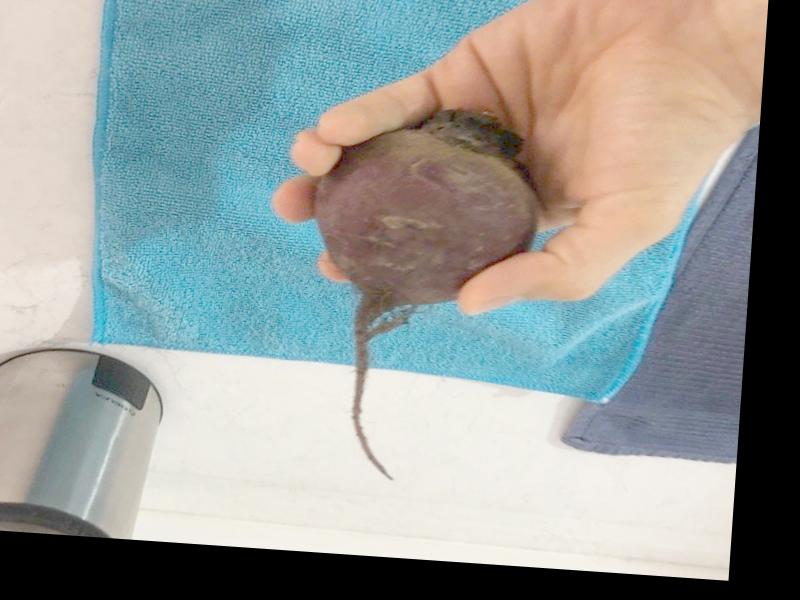Beet: (294, 99, 545, 487)
